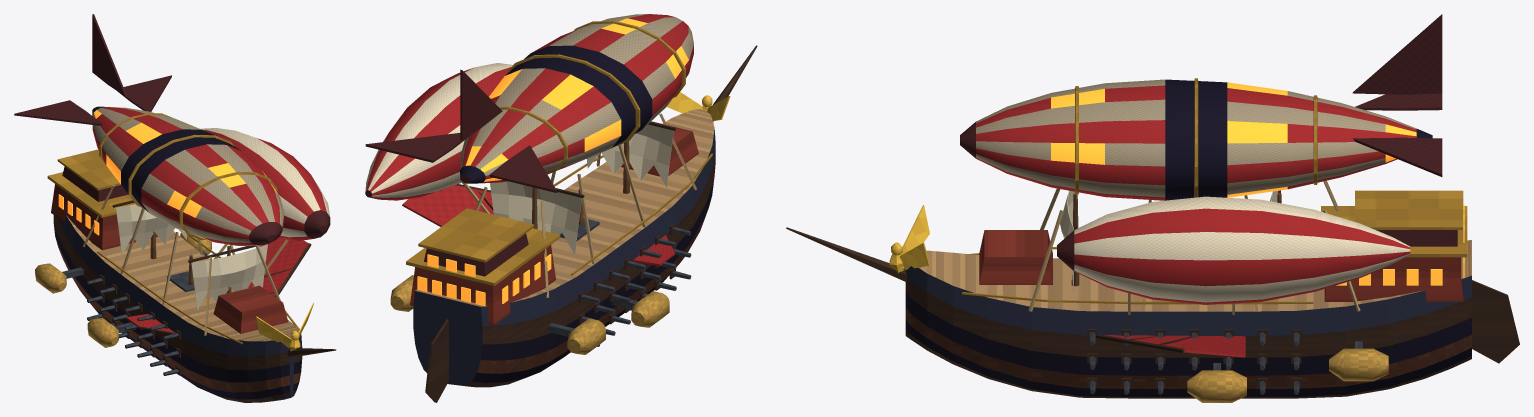
File: SM_Ship_SovereignGaleWrecked_HQ.glb
3 renders of one model, left to right at view 1: azimuth 30°, elevation 25°; view 2: azimuth 150°, elevation 25°; view 3: azimuth 270°, elevation 25°, orthographic. The views are drawn at different scales.
Parts seen in each view (by area): view 1: SM_Ship_SovereignGaleWrecked_HQ; view 2: SM_Ship_SovereignGaleWrecked_HQ; view 3: SM_Ship_SovereignGaleWrecked_HQ.
Part boxes in pixels (bbox=[...]): SM_Ship_SovereignGaleWrecked_HQ: bbox=[14, 14, 336, 402]; SM_Ship_SovereignGaleWrecked_HQ: bbox=[365, 14, 757, 402]; SM_Ship_SovereignGaleWrecked_HQ: bbox=[786, 14, 1519, 402].
Bounding box in the file's own units: 21.41 × 27.6 × 49.23.
1 material, 1 textured.
